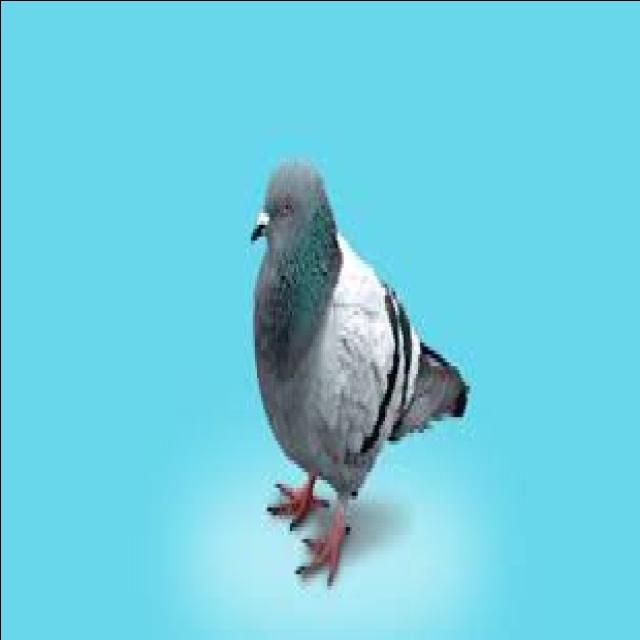pigeon: (230, 147, 482, 592)
